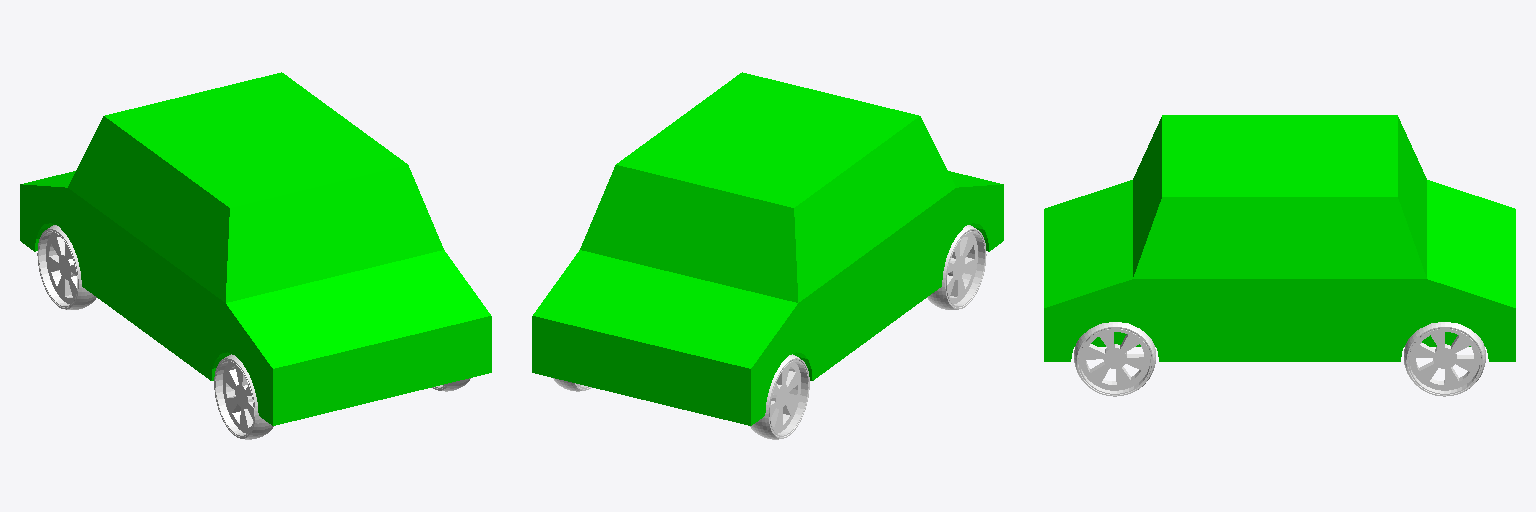
The robot description file, URDF, robot "car_robot":
<?xml version="1.0" encoding="utf-8"?>
<!-- This URDF was automatically created by SolidWorks to URDF Exporter! Originally created by [author] ([email redacted]) 
     Commit Version: 1.6.0-4-g7f85cfe  Build Version: 1.6.7995.38578
     For more information, please see http://wiki.ros.org/sw_urdf_exporter -->
<robot
  name="car_robot">
  <link
    name="base_link">
    <inertial>
      <origin
        xyz="5.9003E-18 3.1919E-16 0.38718"
        rpy="0 0 0" />
      <mass
        value="543.54" />
      <inertia
        ixx="93.813"
        ixy="-7.52E-15"
        ixz="-1.8725E-15"
        iyy="40.103"
        iyz="8.6221E-15"
        izz="106.33" />
    </inertial>
    <visual>
      <origin
        xyz="0 0 0"
        rpy="0 0 0" />
      <geometry>
        <mesh
          filename="meshes/base_link.STL" />
      </geometry>
      <material
        name="">
        <color
          rgba="0 1 0 1"/>
      </material>
    </visual>
    <collision>
      <origin
        xyz="0 0 0"
        rpy="0 0 0" />
      <geometry>
        <mesh
          filename="meshes/base_link.STL" />
      </geometry>
    </collision>
  </link>
  <link
    name="wheel1">
    <inertial>
      <origin
        xyz="2.2204E-16 -1.1102E-16 -3.0961E-05"
        rpy="0 0 0" />
      <mass
        value="2.07" />
      <inertia
        ixx="0.013431"
        ixy="6.0615E-18"
        ixz="-1.8962E-19"
        iyy="0.013431"
        iyz="-4.1158E-19"
        izz="0.025767" />
    </inertial>
    <visual>
      <origin
        xyz="0 0 0"
        rpy="0 0 0" />
      <geometry>
        <mesh
          filename="meshes/wheel1.STL" />
      </geometry>
      <material
        name="">
        <color
          rgba="1 1 1 1" />
      </material>
    </visual>
    <collision>
      <origin
        xyz="0 0 0"
        rpy="0 0 0" />
      <surface>
      <friction>
          <ode>
            <mu>2.0</mu>
            <mu2>2.0</mu2>
          </ode>
        </friction>
      </surface>
      <geometry>
        <mesh
          filename="meshes/wheel1.STL" />
      </geometry>
    </collision>
  </link>
  <joint
    name="joint1"
    type="revolute">
    <origin
      xyz="0.361 -0.56 0.14"
      rpy="-1.5708 0 -1.5708" />
    <parent
      link="base_link" />
    <child
      link="wheel1" />
    <axis
      xyz="0 0 -1"/>
    <limit
      lower="-1.79769e+308"
      upper="1.79769e+308"
      effort="10"
      velocity="10" />
  </joint>
  <link
    name="wheel2">
    <inertial>
      <origin
        xyz="3.586E-14 4.9849E-14 -3.0961E-05"
        rpy="0 0 0" />
      <mass
        value="2.07" />
      <inertia
        ixx="0.013431"
        ixy="-9.5721E-18"
        ixz="-1.4338E-17"
        iyy="0.013431"
        iyz="-2.4596E-17"
        izz="0.025767" />
    </inertial>
    <visual>
      <origin
        xyz="0 0 0"
        rpy="0 0 0" />
      <geometry>
        <mesh
          filename="meshes/wheel2.STL" />
      </geometry>
      <material
        name="">
        <color
          rgba="1 1 1 1" />
      </material>
    </visual>
    <collision>
      <origin
        xyz="0 0 0"
        rpy="0 0 0" />
      <surface>
        <friction>
          <ode>
            <mu>2.0</mu>
            <mu2>2.0</mu2>
          </ode>
        </friction>
      </surface>
      <geometry>
        <mesh
          filename="meshes/wheel2.STL" />
      </geometry>
    </collision>
  </link>
  <joint
    name="joint2"
    type="revolute">
    <origin
      xyz="0.361 0.56 0.14"
      rpy="-1.5708 0 -1.5708" />
    <parent
      link="base_link" />
    <child
      link="wheel2" />
    <axis
      xyz="0 0 1" />
    <limit
      lower="-1.79769e+308"
      upper="1.79769e+308"
      effort="10"
      velocity="10"/>
  </joint>
  <link
    name="wheel3">
    <inertial>
      <origin
        xyz="-1.1102E-16 -1.1102E-16 -3.0961E-05"
        rpy="0 0 0" />
      <mass
        value="2.07" />
      <inertia
        ixx="0.013431"
        ixy="-7.5481E-18"
        ixz="1.0785E-18"
        iyy="0.013431"
        iyz="-3.2925E-19"
        izz="0.025767" />
    </inertial>
    <visual>
      <origin
        xyz="0 0 0"
        rpy="0 0 0" />
      <geometry>
        <mesh
          filename="meshes/wheel3.STL" />
      </geometry>
      <material
        name="">
        <color
          rgba="1 1 1 1" />
      </material>
    </visual>
    <collision>
      <origin
        xyz="0 0 0"
        rpy="0 0 0" />
      <surface>
        <friction>
          <ode>
            <mu>2.0</mu>
            <mu2>2.0</mu2>
          </ode>
        </friction>
      </surface>
      <geometry>
        <mesh
          filename="meshes/wheel3.STL" />
      </geometry>
    </collision>
  </link>
  <joint
    name="joint3"
    type="revolute">
    <origin
      xyz="-0.361 0.56 0.14"
      rpy="1.5708 0 -1.5708" />
    <parent
      link="base_link" />
    <child
      link="wheel3" />
    <axis
      xyz="0 0 -1"/>
    <limit
      lower="-1.79769e+308"
      upper="1.79769e+308"
      effort="10"
      velocity="10"/>
  </joint>
  <link
    name="wheel4">
    <inertial>
      <origin
        xyz="5.4179E-14 -5.0182E-14 -3.0961E-05"
        rpy="0 0 0" />
      <mass
        value="2.07" />
      <inertia
        ixx="0.013431"
        ixy="2.0109E-18"
        ixz="-1.1238E-17"
        iyy="0.013431"
        iyz="2.7609E-17"
        izz="0.025767" />
    </inertial>
    <visual>
      <origin
        xyz="0 0 0"
        rpy="0 0 0" />
      <geometry>
        <mesh
          filename="meshes/wheel4.STL" />
      </geometry>
      <material
        name="">
        <color
          rgba="1 1 1 1" />
      </material>
    </visual>
    <collision>
      <origin
        xyz="0 0 0"
        rpy="0 0 0" />
      <surface>
        <friction>
          <ode>
            <mu>2.0</mu>
            <mu2>2.0</mu2>
          </ode>
        </friction>
      </surface>
      <geometry>
        <mesh
          filename="meshes/wheel4.STL" />
      </geometry>
    </collision>
  </link>
  <joint
    name="joint4"
    type="revolute">
    <origin
      xyz="-0.361 -0.56 0.14"
      rpy="1.5708 0 -1.5708" />
    <parent
      link="base_link" />
    <child
      link="wheel4" />
    <axis
      xyz="0 0 1" />
    <limit
      lower="-1.79769e+308"
      upper="1.79769e+308" 
      effort="10"
      velocity="10"/>
  </joint>
  <!-- Steering Joints (front wheels) -->
  <!-- <joint name="joint2" type="revolute">
    <origin xyz="0.361 0.56 0.14" rpy="-1.5708 0 -1.5708" />
    <parent link="base_link" />
    <child link="wheel2" />
    <axis xyz="0 1 0"/>
    <limit lower="-1.57" upper="1.57" effort="10" velocity="10" />
  </joint>
  <joint name="joint3" type="revolute">
    <origin xyz="-0.361 0.56 0.14" rpy="1.5708 0 -1.5708" />
    <parent link="base_link" />
    <child link="wheel3" />
    <axis xyz="0 -1 0"/>
    <limit lower="-1.57" upper="1.57" effort="10" velocity="10" />
  </joint> -->
 
  <gazebo xmlns:gz="https://ignitionrobotics.org">
    <plugin name="gz::sim::systems::DiffDrive" filename="libgz-sim-diff-drive-system.so">
      <left_joint>joint4</left_joint>
      <!-- <left_joint>joint3</left_joint> -->
      <right_joint>joint1</right_joint>
      <!-- <right_joint>joint2</right_joint> -->
      <wheel_separation>0.722</wheel_separation>
      <wheel_radius>0.14</wheel_radius>
      <odom_publish_frequency>1</odom_publish_frequency>
      <topic>/cmd_vel</topic>
      <debug>true</debug>
    </plugin>
  </gazebo>
  
 <!-- Ackermann Steering Plugin -->
  <!-- <gazebo xmlns:gz="https://ignitionrobotics.org">
    <plugin name="gz::sim::systems::AckermannSteering" filename="libgz-sim8-ackermann-steering-system.so">
      <steering_left_joint>joint3</steering_left_joint>
      <steering_right_joint>joint2</steering_right_joint>
      <left_wheel_joint>joint4</left_wheel_joint>
      <right_wheel_joint>joint1</right_wheel_joint>
      <wheel_separation>0.722</wheel_separation>
      <wheel_radius>0.14</wheel_radius>
      <wheel_base>1.12</wheel_base>  Adjust as per your robot's dimensions
      <steering_topic>/cmd_steering</steering_topic>
      <use_ackermann>true</use_ackermann>
    </plugin>
  </gazebo> -->
</robot>

--- Render facts (derived) ---
3 views of the same robot in one strip: view 1: azimuth 30°, elevation 25°; view 2: azimuth 150°, elevation 25°; view 3: azimuth 270°, elevation 25° (orthographic).
Robot: car_robot — 5 links, 4 joints (4 revolute); root link base_link; default pose: every joint at zero.
Links seen in each view (by area): view 1: base_link, wheel4, wheel3; view 2: base_link, wheel3, wheel4; view 3: base_link, wheel1, wheel2.
Link boxes in pixels (left/top/right/bottom): base_link: left=20, top=72, right=491, bottom=425; wheel4: left=214, top=354, right=273, bottom=439; wheel3: left=37, top=225, right=96, bottom=309; base_link: left=532, top=72, right=1003, bottom=425; wheel3: left=750, top=354, right=809, bottom=439; wheel4: left=927, top=225, right=986, bottom=309; base_link: left=1044, top=115, right=1515, bottom=361; wheel1: left=1074, top=322, right=1155, bottom=396; wheel2: left=1404, top=322, right=1485, bottom=396.
Bounding box of the posed robot: 0.802 × 1.6 × 0.7237 m (x, y, z).
5 mesh visuals loaded from 5 distinct referenced files (5 binary STL).